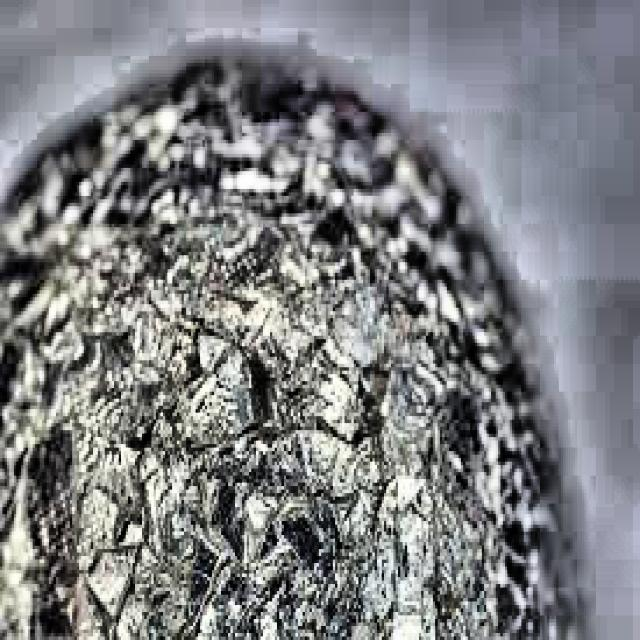Foil: (0, 29, 600, 640)
